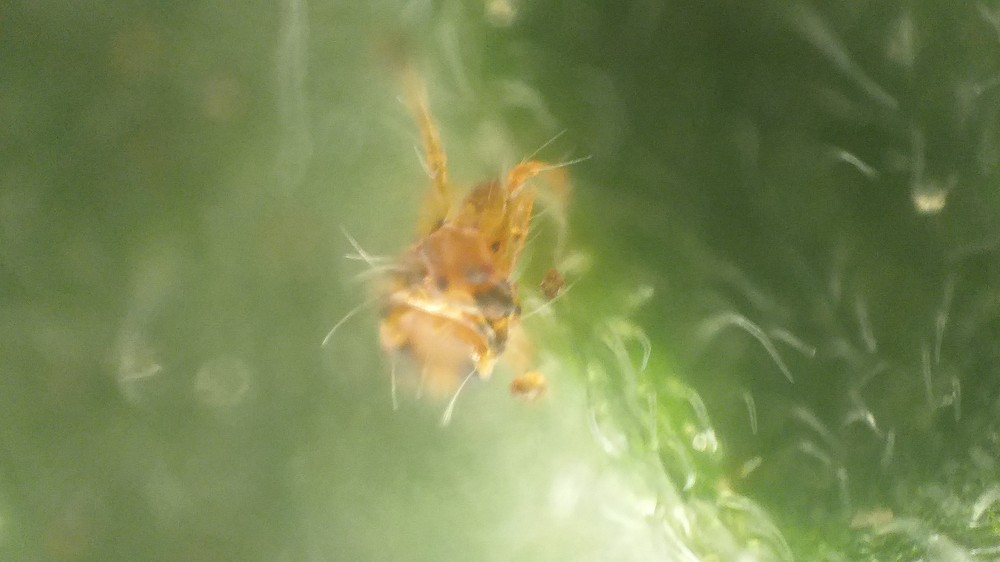Aracnido Rojo: (337, 76, 589, 444)
